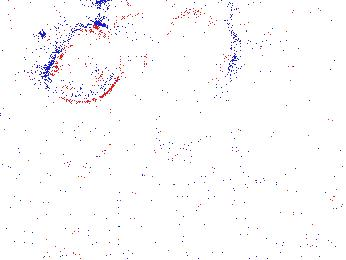moon jellyfish: (106, 11, 223, 93), (46, 23, 123, 103), (252, 19, 334, 73)
